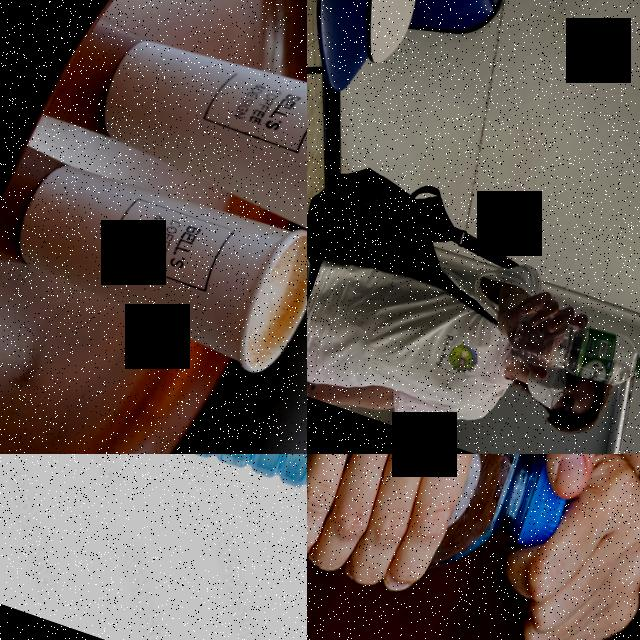bottle: (307, 454, 600, 623), (54, 454, 307, 547), (504, 298, 640, 402)
cup: (0, 140, 307, 384), (78, 5, 307, 274)
